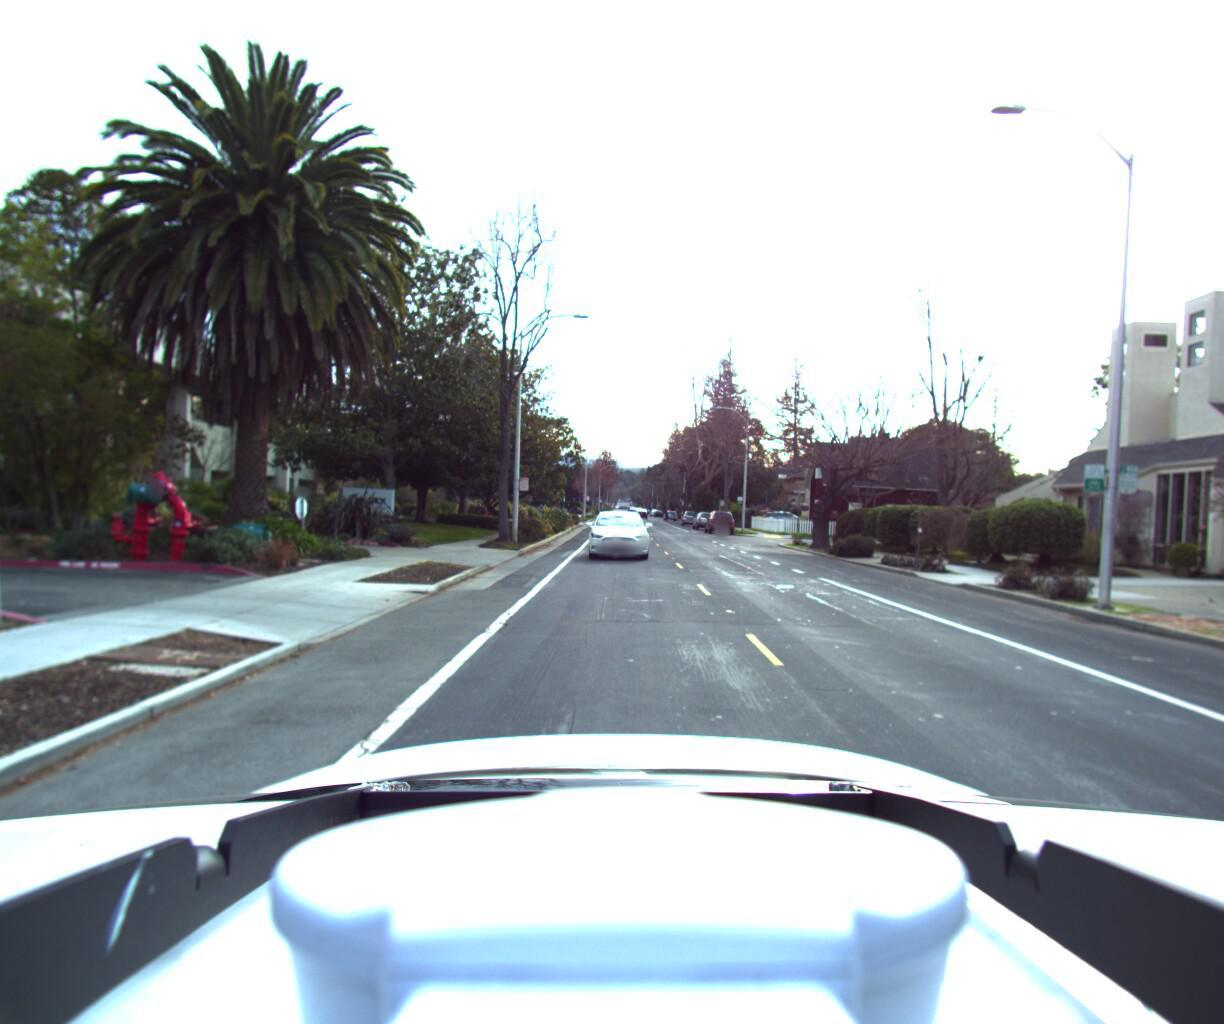car: (584, 509, 649, 563), (702, 507, 734, 533), (690, 508, 716, 529), (680, 508, 698, 524)
